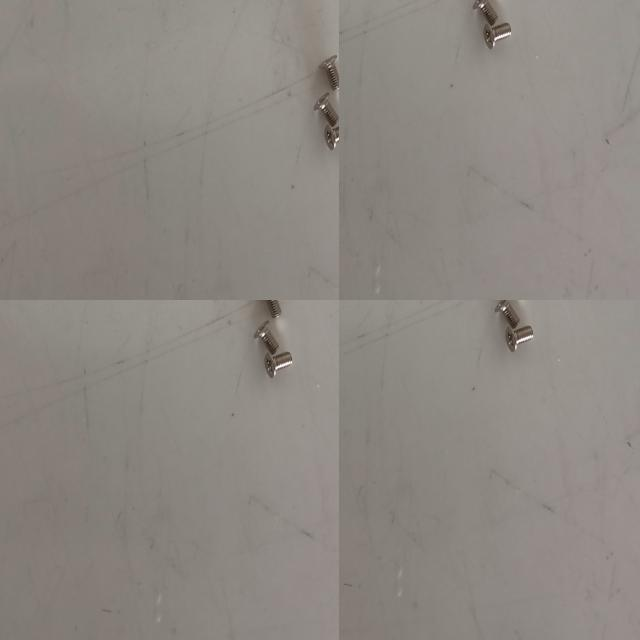Screw: (502, 322, 536, 353), (492, 300, 520, 331)
